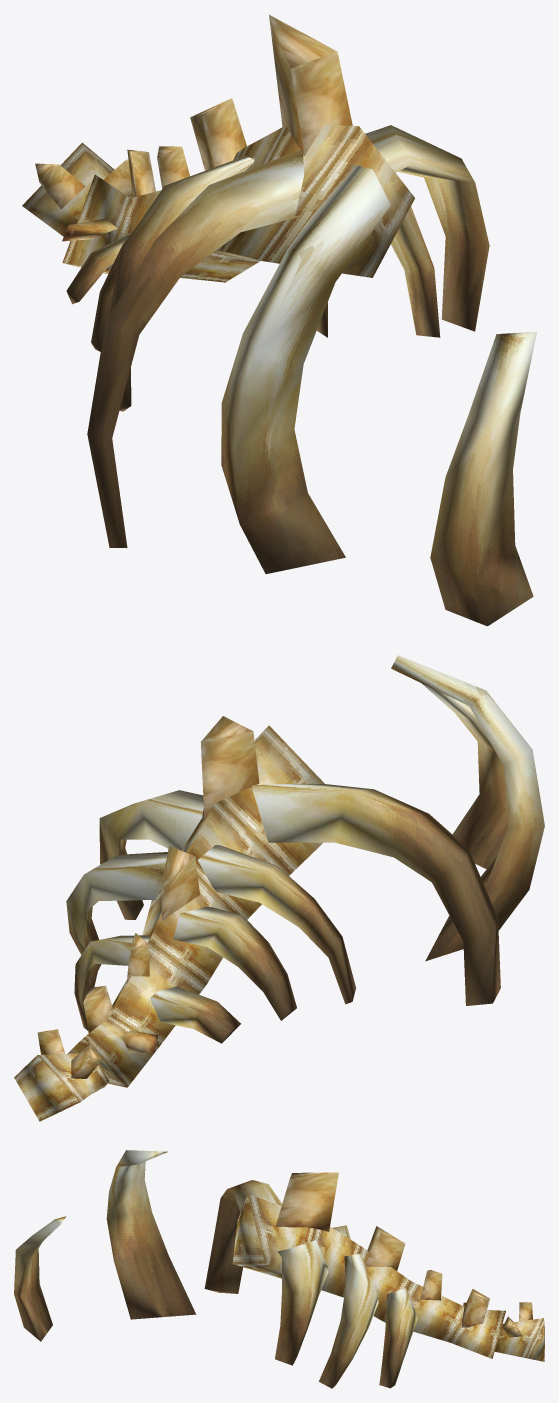
File: kodograve02.glb
The picture shows the model from 3 angles, top to bottom: view 1: azimuth 30°, elevation 25°; view 2: azimuth 150°, elevation 25°; view 3: azimuth 270°, elevation 25°; orthographic projection. The views are drawn at different scales.
Bounding box in the file's own units: 6.14 × 4.81 × 12.14.
Materials: 3 (3 with a texture image).
